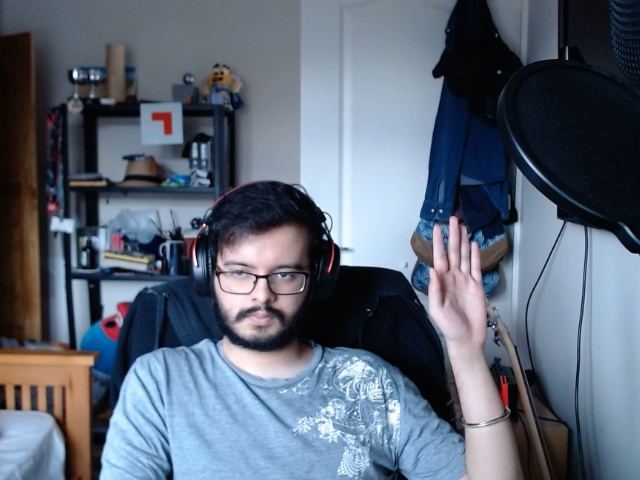Hello: (413, 207, 503, 353)
